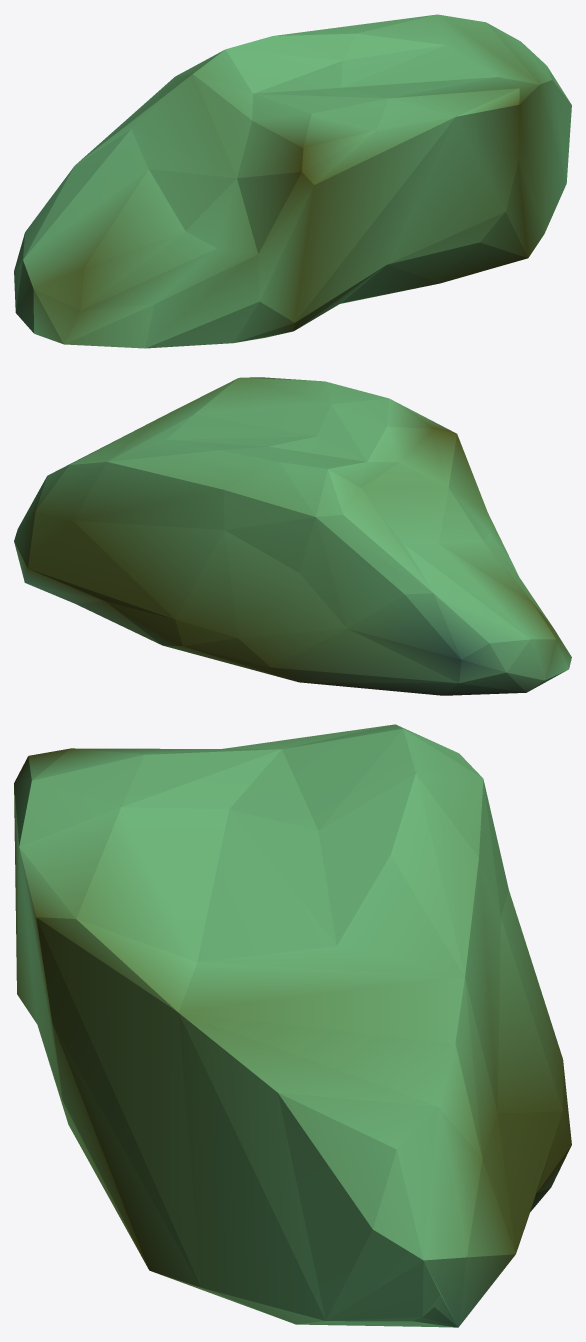
The model's file is rock4.fbx.
The picture shows the model from 3 angles, top to bottom: view 1: azimuth 30°, elevation 25°; view 2: azimuth 150°, elevation 25°; view 3: azimuth 270°, elevation 25°; orthographic projection. The views are drawn at different scales.
Parts seen in each view (by area): view 1: PM3D_Cube3D4; view 2: PM3D_Cube3D4; view 3: PM3D_Cube3D4.
Boxes of the visible parts, <box> form: PM3D_Cube3D4: <box>14,14,571,348</box>; PM3D_Cube3D4: <box>14,377,571,695</box>; PM3D_Cube3D4: <box>14,724,571,1327</box>.
Bounding box in the file's own units: 2 × 0.7163 × 0.9941.
